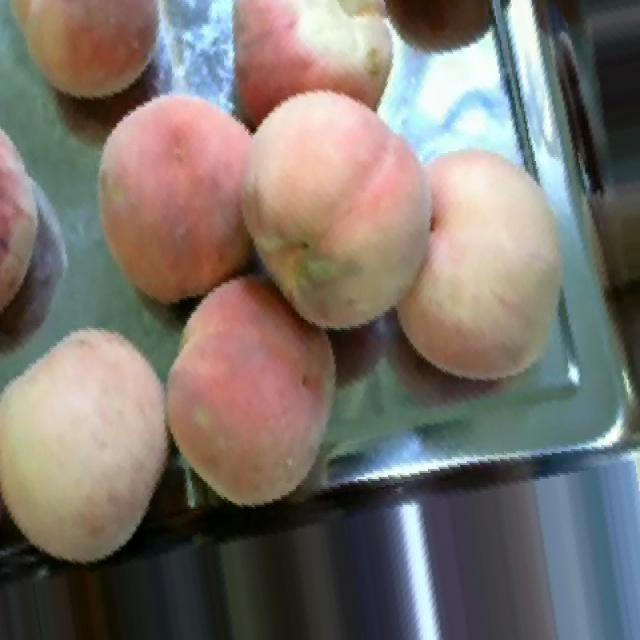Fruit: (215, 59, 465, 353), (376, 124, 593, 406), (167, 252, 360, 521), (75, 73, 273, 328), (0, 302, 175, 578), (0, 0, 180, 117), (1, 93, 60, 350)
